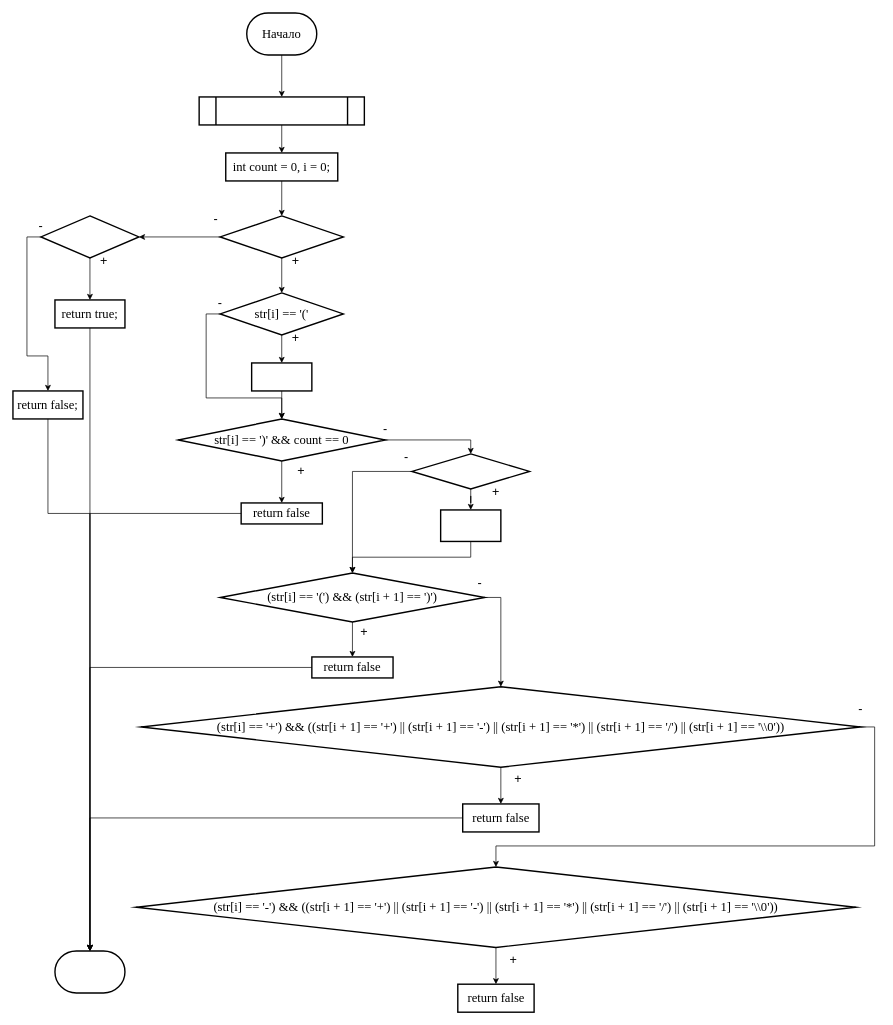
This 893x1025 diagram has some shape labels left out. Here are the shapes that lost their labels. From the top down, the centre of each, then its label:
(x=281, y=110): bool Check(char str[])
(x=89, y=236): count == 0
(x=281, y=236): str[i] != '\0'
(x=281, y=376): count++;
(x=470, y=471): str[i] == ')'
(x=470, y=525): count--;
(x=89, y=971): Конец
